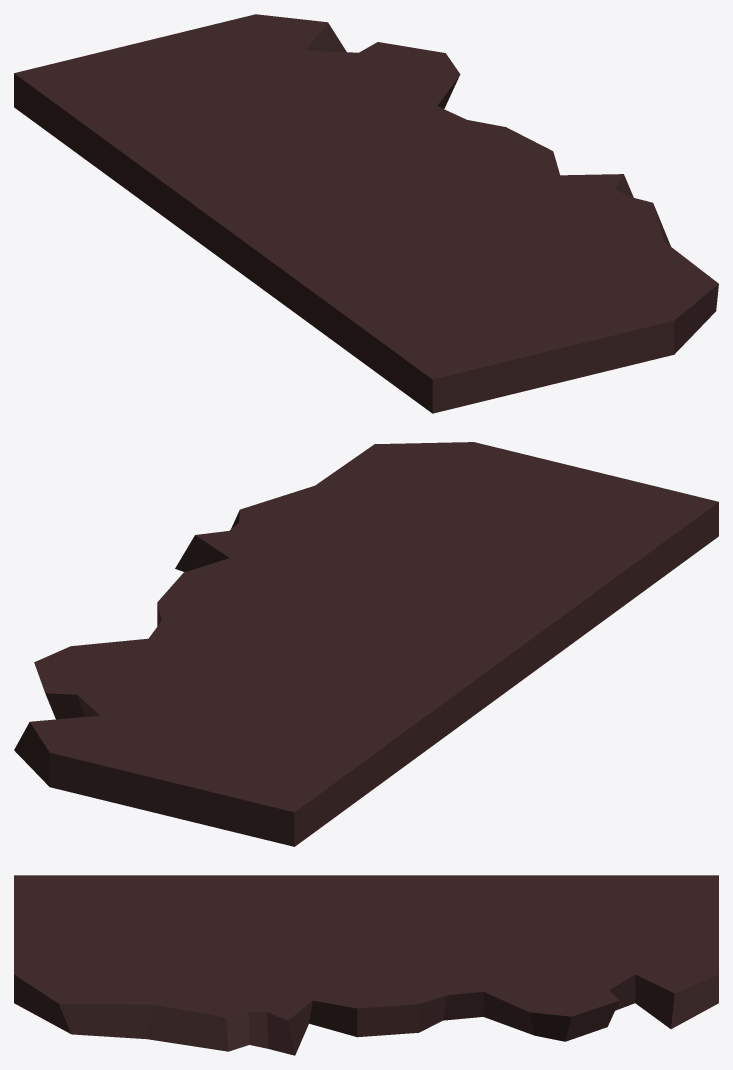
3 renders of one model, top to bottom at view 1: azimuth 30°, elevation 25°; view 2: azimuth 150°, elevation 25°; view 3: azimuth 270°, elevation 25°, orthographic. The views are drawn at different scales.
Parts seen in each view (by area): view 1: TS4; view 2: TS4; view 3: TS4.
Part boxes in pixels (x1,y1,x2,y2): TS4: [14, 14, 718, 413]; TS4: [14, 442, 718, 846]; TS4: [14, 875, 718, 1055].
Bounding box in the file's own units: 153 × 13.48 × 300.
